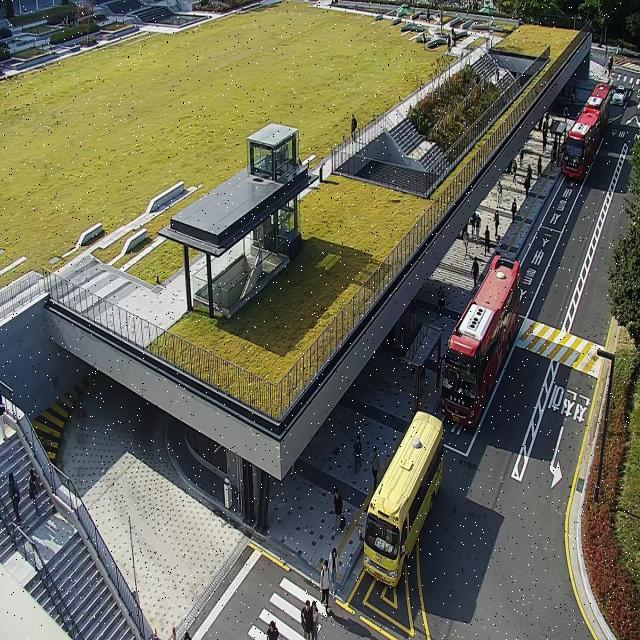queue: (417, 332, 439, 420)
